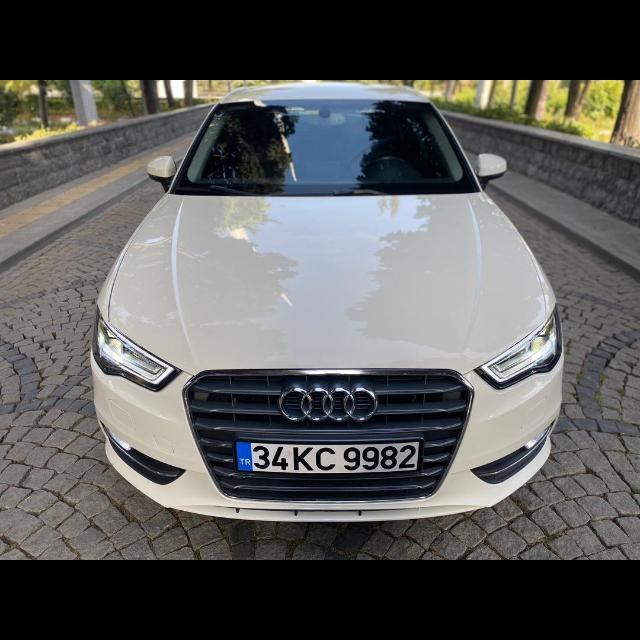Plaka: (237, 442, 421, 472)
